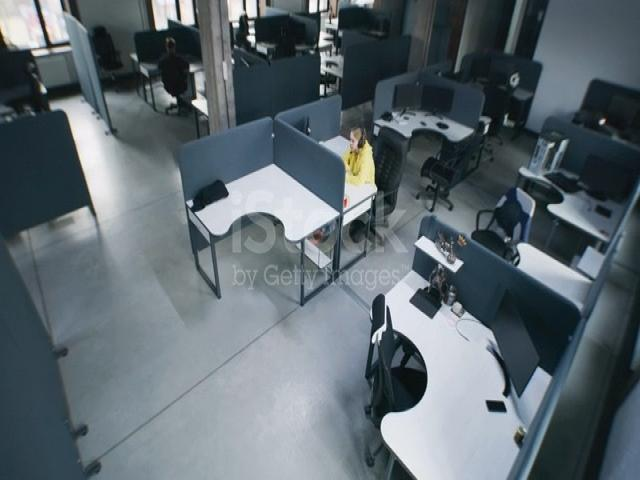empty chair: (361, 271, 427, 480), (475, 180, 530, 276), (86, 9, 128, 92), (470, 59, 508, 149), (425, 138, 462, 217), (18, 38, 49, 130), (317, 56, 342, 104)
occupiedchair: (344, 121, 406, 255), (156, 21, 196, 123), (571, 88, 637, 137)
